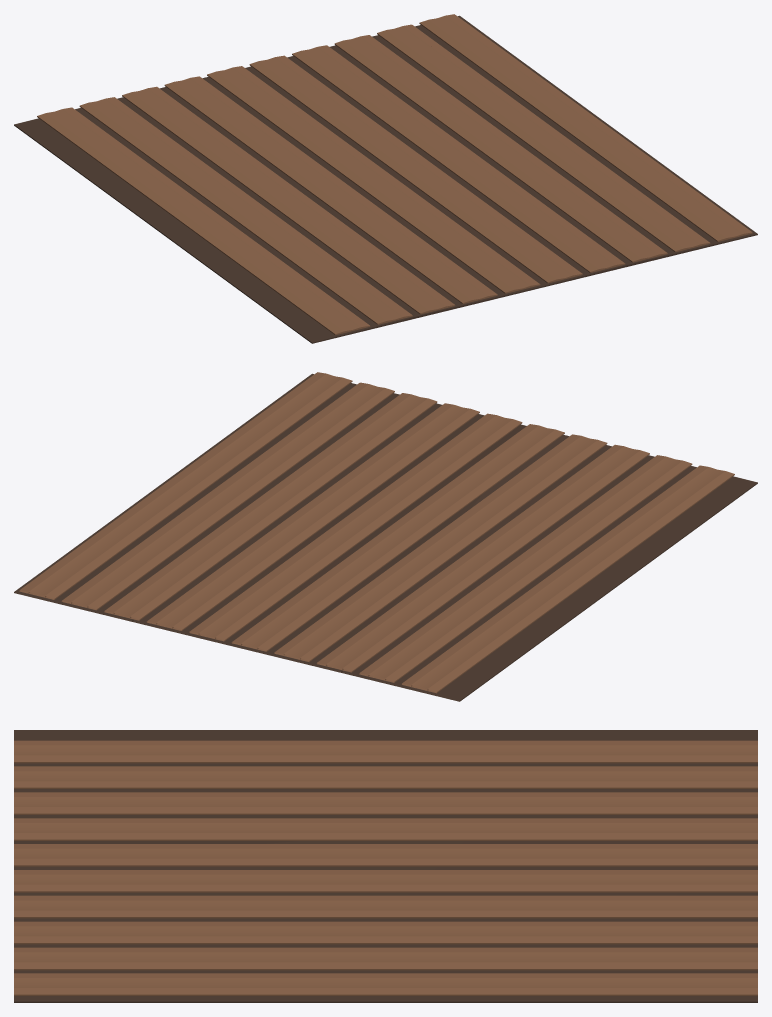
File: tahta.fbx
The picture shows the model from 3 angles, top to bottom: view 1: azimuth 30°, elevation 25°; view 2: azimuth 150°, elevation 25°; view 3: azimuth 270°, elevation 25°; orthographic projection. The views are drawn at different scales.
Visible parts, largest first — view 1: Shape009_011.004; view 2: Shape009_011.004; view 3: Shape009_011.004.
Boxes of the visible parts, box(x1,y1,x2,y2) form: Shape009_011.004: box(14, 14, 757, 343); Shape009_011.004: box(14, 372, 757, 701); Shape009_011.004: box(14, 730, 757, 1002).
Bounding box in the file's own units: 4316 × 43.67 × 5000.
